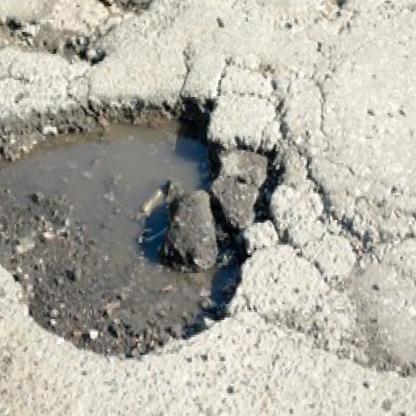pothole: (0, 87, 290, 343)
